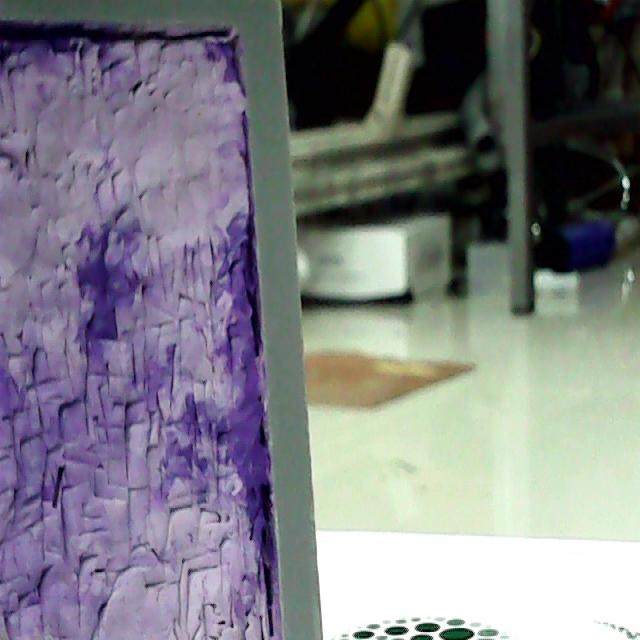block: (2, 12, 333, 634)
